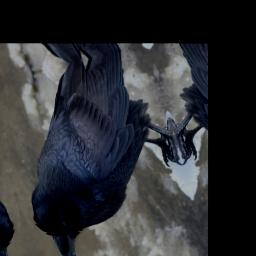Crow: (0, 45, 204, 256)
